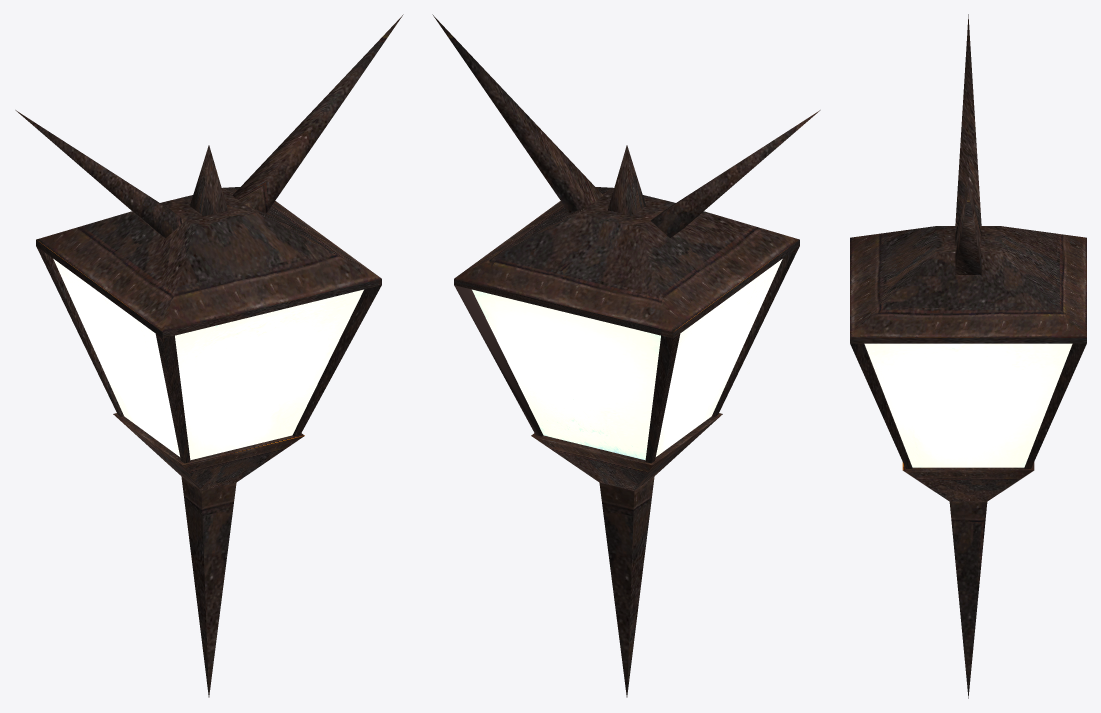
The model's file is electric_plain1_unattached.glb.
3 renders of one model, left to right at view 1: azimuth 30°, elevation 25°; view 2: azimuth 150°, elevation 25°; view 3: azimuth 270°, elevation 25°, orthographic. The views are drawn at different scales.
Visible parts, largest first — view 1: Wallight1.4; view 2: Wallight1.4; view 3: Wallight1.4.
Part boxes in pixels (<box>): Wallight1.4: <box>15,14,403,697</box>; Wallight1.4: <box>432,14,820,697</box>; Wallight1.4: <box>850,14,1086,698</box>.
Size of the model in its own units: 0.5803 by 0.9068 by 0.3264.
Materials: 2 (2 with a texture image).
